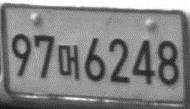2: (107, 37, 130, 84)
4: (131, 38, 156, 86)
6: (83, 37, 106, 82)
7: (33, 34, 54, 79)
8: (157, 40, 179, 86)
9: (11, 33, 31, 78)
머: (57, 44, 80, 82)
